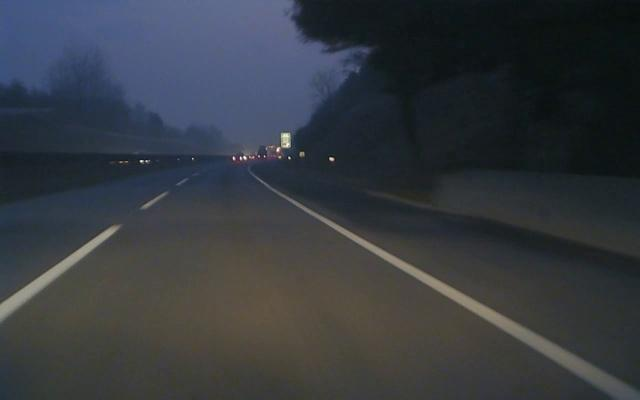lane: (288, 201, 640, 400), (0, 192, 170, 325)
